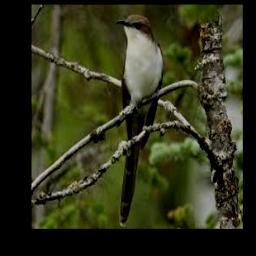Cuckoo: (119, 14, 164, 225)
